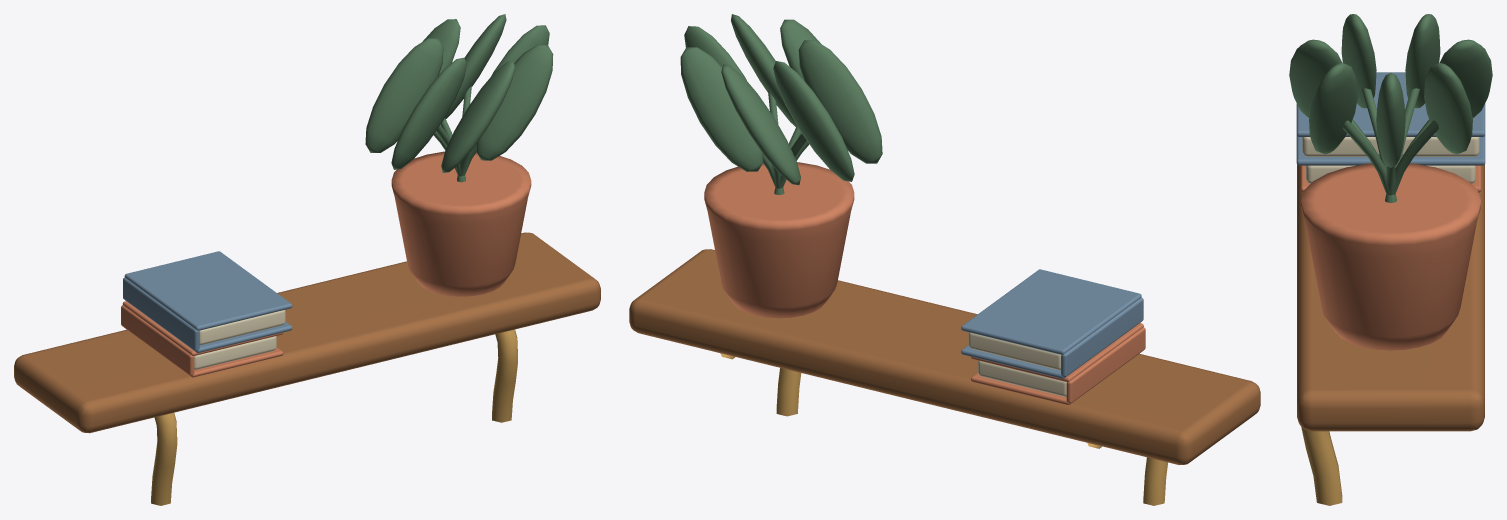
The model's file is wall_shelf.glb.
The picture shows the model from 3 angles, left to right: view 1: azimuth 30°, elevation 25°; view 2: azimuth 150°, elevation 25°; view 3: azimuth 270°, elevation 25°; orthographic projection. The views are drawn at different scales.
Visible parts, largest first — view 1: House07_wall_shelf; view 2: House07_wall_shelf; view 3: House07_wall_shelf.
Part boxes in pixels (left/top/right/bottom): House07_wall_shelf: left=14, top=14, right=600, bottom=505; House07_wall_shelf: left=629, top=14, right=1260, bottom=505; House07_wall_shelf: left=1289, top=14, right=1492, bottom=505.
Size of the model in its own units: 0.95 by 0.626 by 0.2488.
